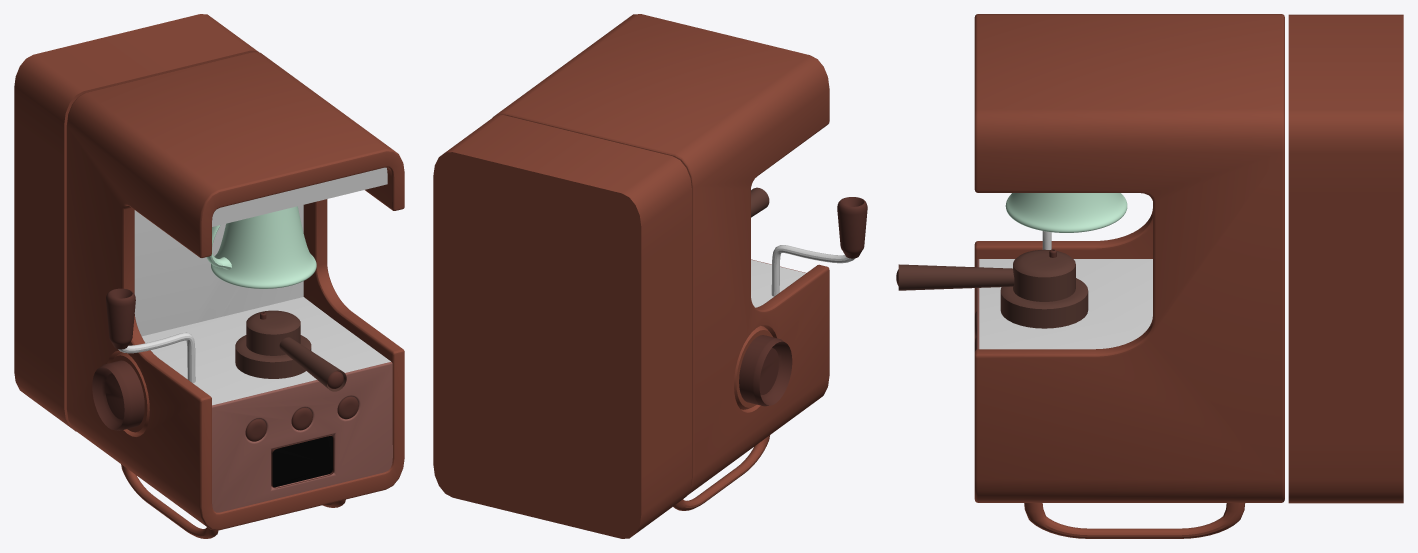
The model's file is coffee maker.fbx.
3 renders of one model, left to right at view 1: azimuth 30°, elevation 25°; view 2: azimuth 150°, elevation 25°; view 3: azimuth 270°, elevation 25°, orthographic. The views are drawn at different scales.
Visible parts, largest first — view 1: Cylinder.008; view 2: Cylinder.008; view 3: Cylinder.008.
Boxes of the visible parts, left/top/right/bottom form: Cylinder.008: left=14, top=14, right=404, bottom=538; Cylinder.008: left=433, top=14, right=867, bottom=538; Cylinder.008: left=896, top=14, right=1403, bottom=538.
Bounding box in the file's own units: 262 × 357 × 373.
